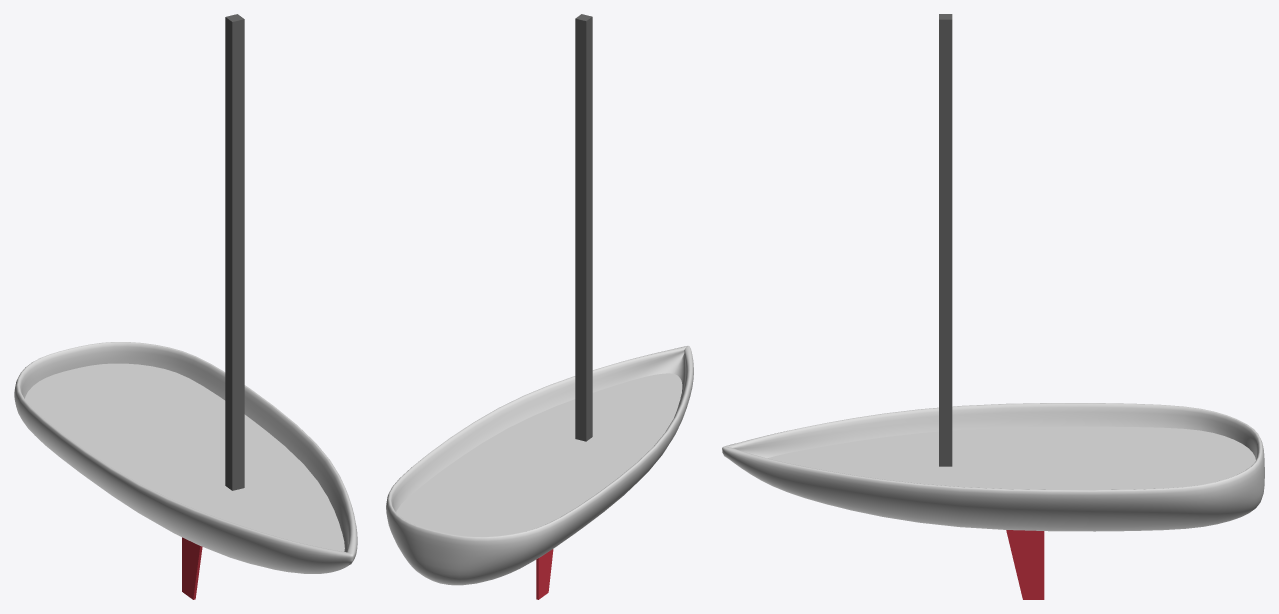
File: Boat.glb
3 renders of one model, left to right at view 1: azimuth 30°, elevation 25°; view 2: azimuth 150°, elevation 25°; view 3: azimuth 270°, elevation 25°, orthographic. The views are drawn at different scales.
Visible parts, largest first — view 1: Plane, Hull, Mast, Keel; view 2: Plane, Hull, Mast, Keel; view 3: Hull, Plane, Mast, Keel.
Boxes of the visible parts, x1,y1,x2,y2 form: Plane: [25, 363, 344, 551]; Hull: [14, 342, 357, 573]; Mast: [225, 14, 244, 490]; Keel: [182, 537, 202, 599]; Plane: [396, 373, 682, 536]; Hull: [386, 346, 693, 585]; Mast: [575, 14, 592, 441]; Keel: [536, 549, 553, 599]; Hull: [722, 403, 1264, 531]; Plane: [768, 426, 1255, 489]; Mast: [939, 14, 952, 466]; Keel: [1006, 530, 1044, 599].
Bounding box in the file's own units: 1.66 × 5.06 × 4.28.
